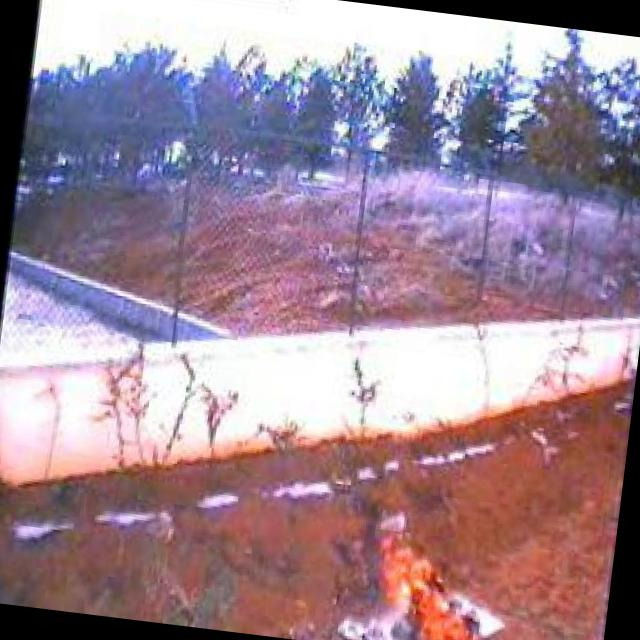Fire: (355, 506, 510, 640)
